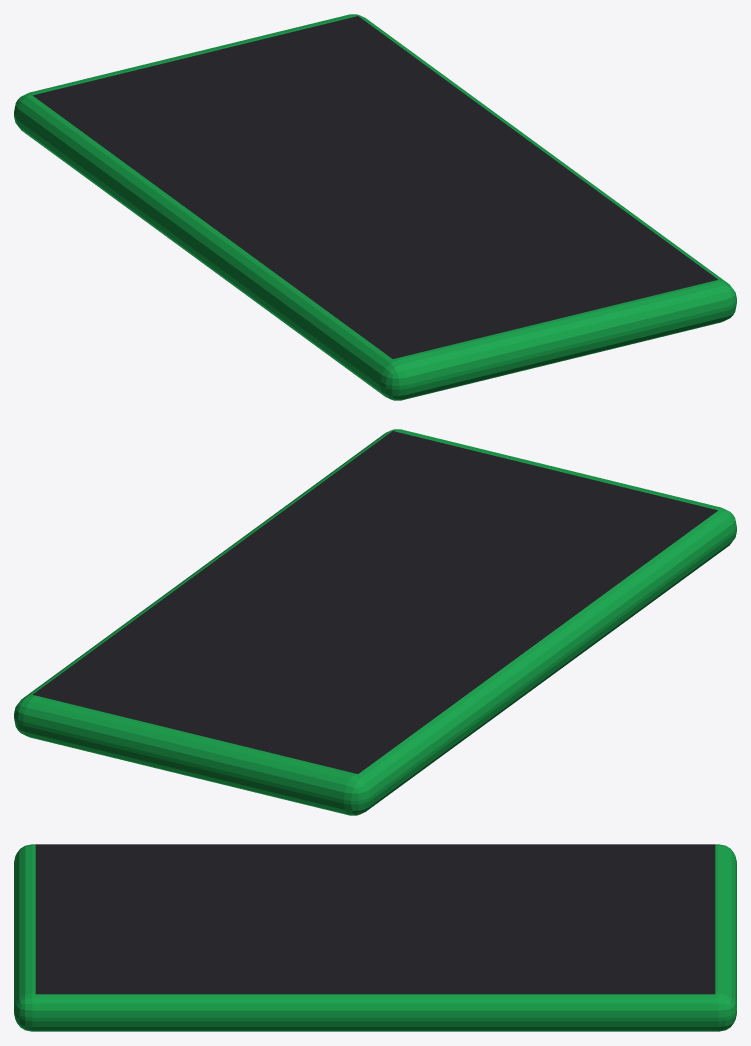
File: Phone_802.glb
3 views of the same model, one above another, from view 1: azimuth 30°, elevation 25°; view 2: azimuth 150°, elevation 25°; view 3: azimuth 270°, elevation 25° (orthographic). The views are drawn at different scales.
Visible parts, largest first — view 1: Phone_Screen, Phone_Body; view 2: Phone_Screen, Phone_Body; view 3: Phone_Screen, Phone_Body.
Part boxes in pixels (bbox=[...]): Phone_Screen: bbox=[33, 16, 718, 358]; Phone_Body: bbox=[14, 14, 736, 400]; Phone_Screen: bbox=[32, 431, 717, 773]; Phone_Body: bbox=[14, 429, 736, 815]; Phone_Screen: bbox=[35, 844, 715, 994]; Phone_Body: bbox=[14, 844, 736, 1031].
Size of the model in its own units: 0.0764 by 0.0081 by 0.1433.
